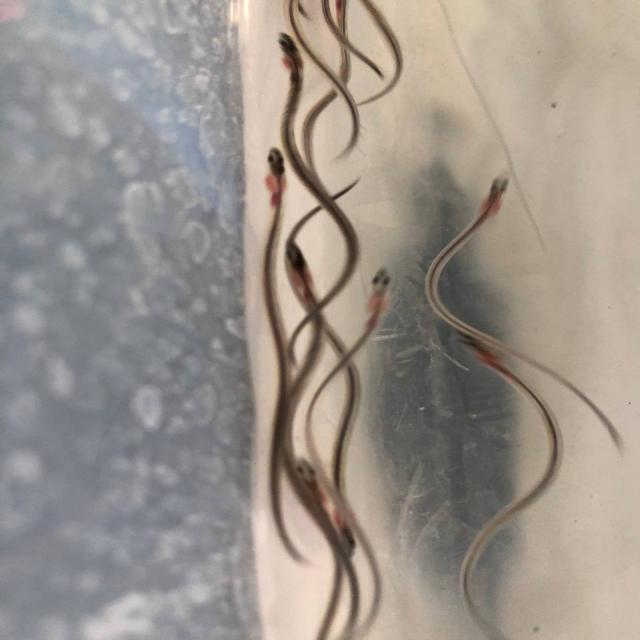glass_eel: (469, 166, 520, 222), (274, 238, 324, 289), (256, 142, 300, 197), (264, 28, 314, 76), (288, 448, 332, 501), (446, 330, 502, 371), (324, 514, 362, 560), (361, 262, 396, 309)
